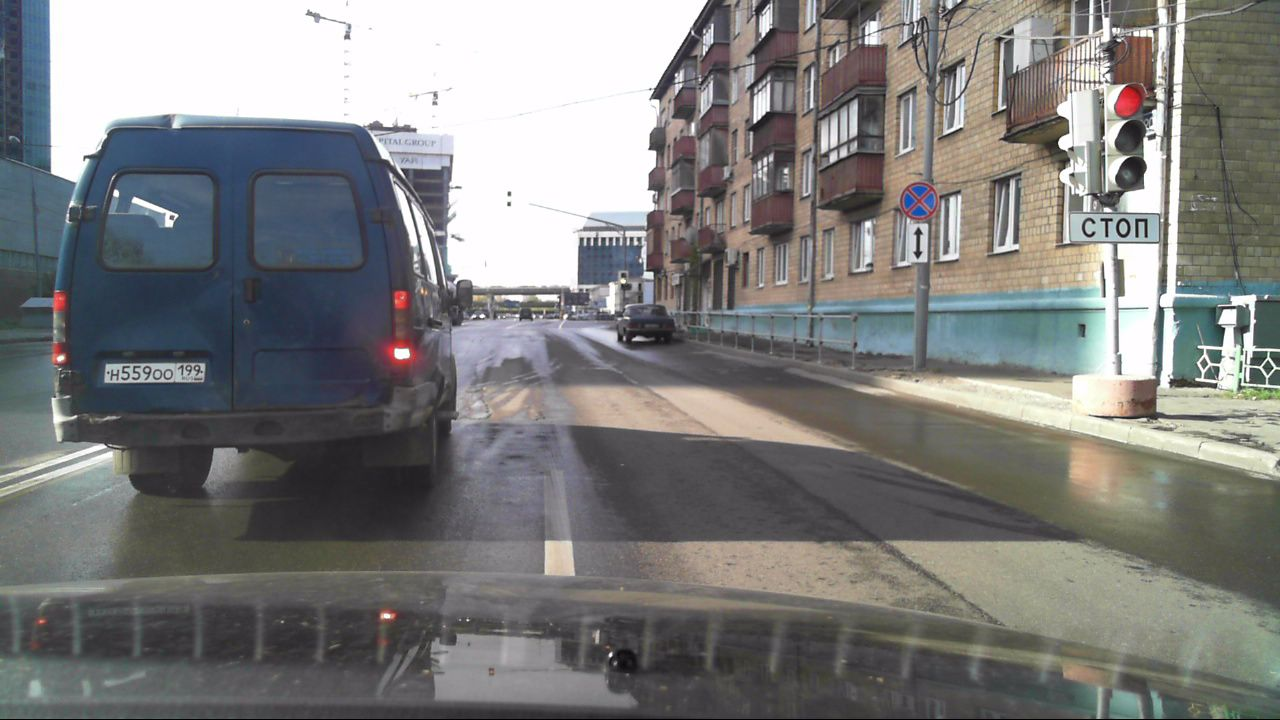No Parking: (901, 182, 940, 219)
